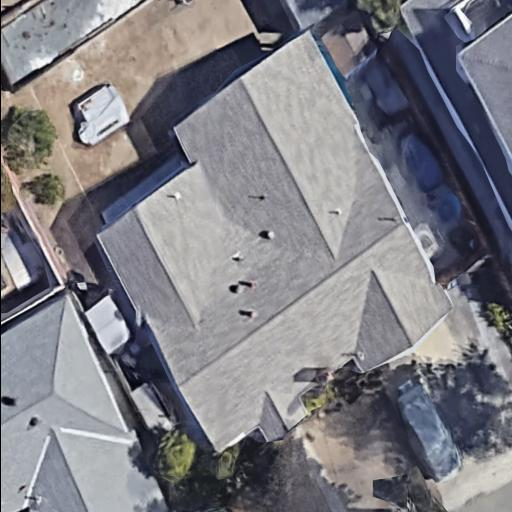Slope-Roof: (97, 30, 453, 457)
